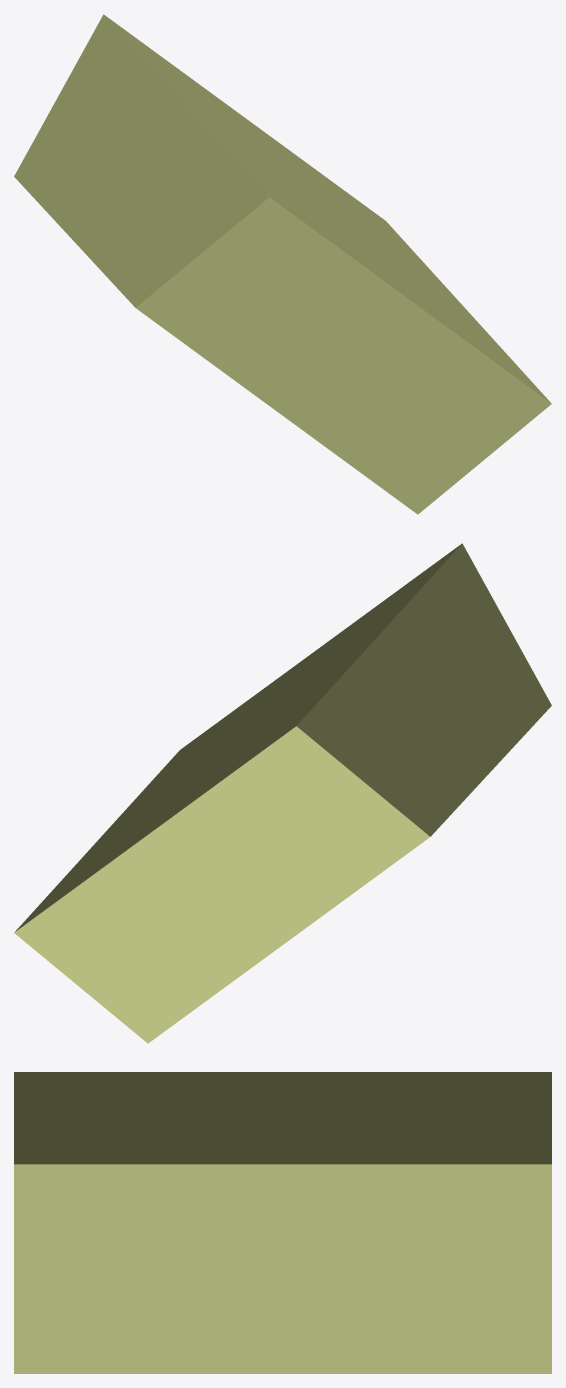
3 views of the same model, one above another, from view 1: azimuth 30°, elevation 25°; view 2: azimuth 150°, elevation 25°; view 3: azimuth 270°, elevation 25° (orthographic). The views are drawn at different scales.
Visible parts, largest first — view 1: 0_1_2_0_1_1_0_0_0_2_3_1; view 2: 0_1_2_0_1_1_0_0_0_2_3_1; view 3: 0_1_2_0_1_1_0_0_0_2_3_1.
Boxes of the visible parts, left/top/right/bottom form: 0_1_2_0_1_1_0_0_0_2_3_1: left=14, top=14, right=551, bottom=514; 0_1_2_0_1_1_0_0_0_2_3_1: left=14, top=543, right=551, bottom=1043; 0_1_2_0_1_1_0_0_0_2_3_1: left=14, top=1072, right=551, bottom=1373.
Bounding box in the file's own units: 3.13 × 3.53 × 6.
